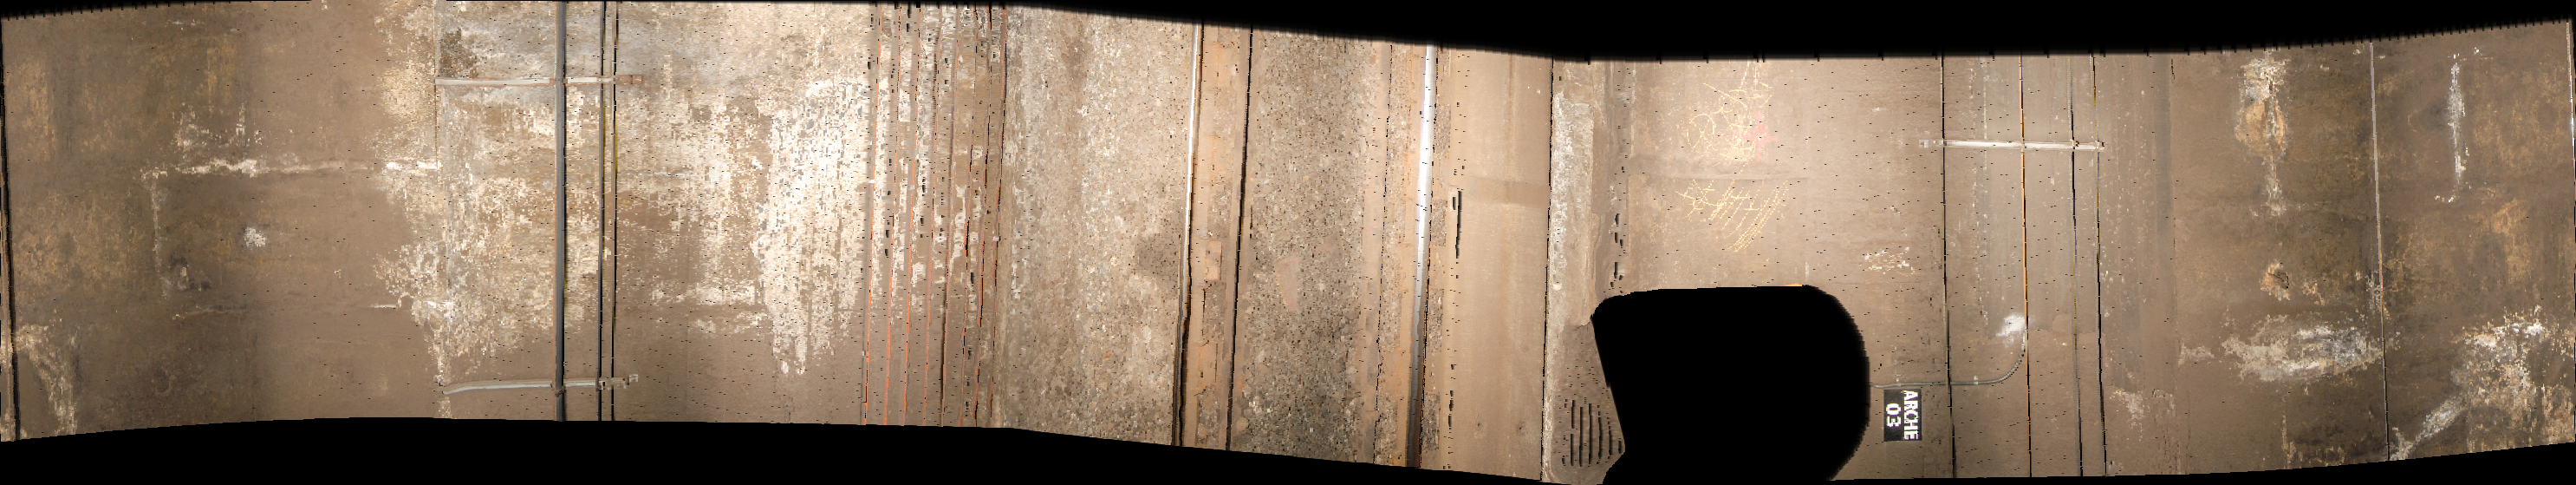pipes: (866, 3, 1022, 454), (2012, 59, 2124, 485), (554, 3, 621, 444), (1930, 48, 1965, 485)
tracks: (1193, 15, 1551, 485)
